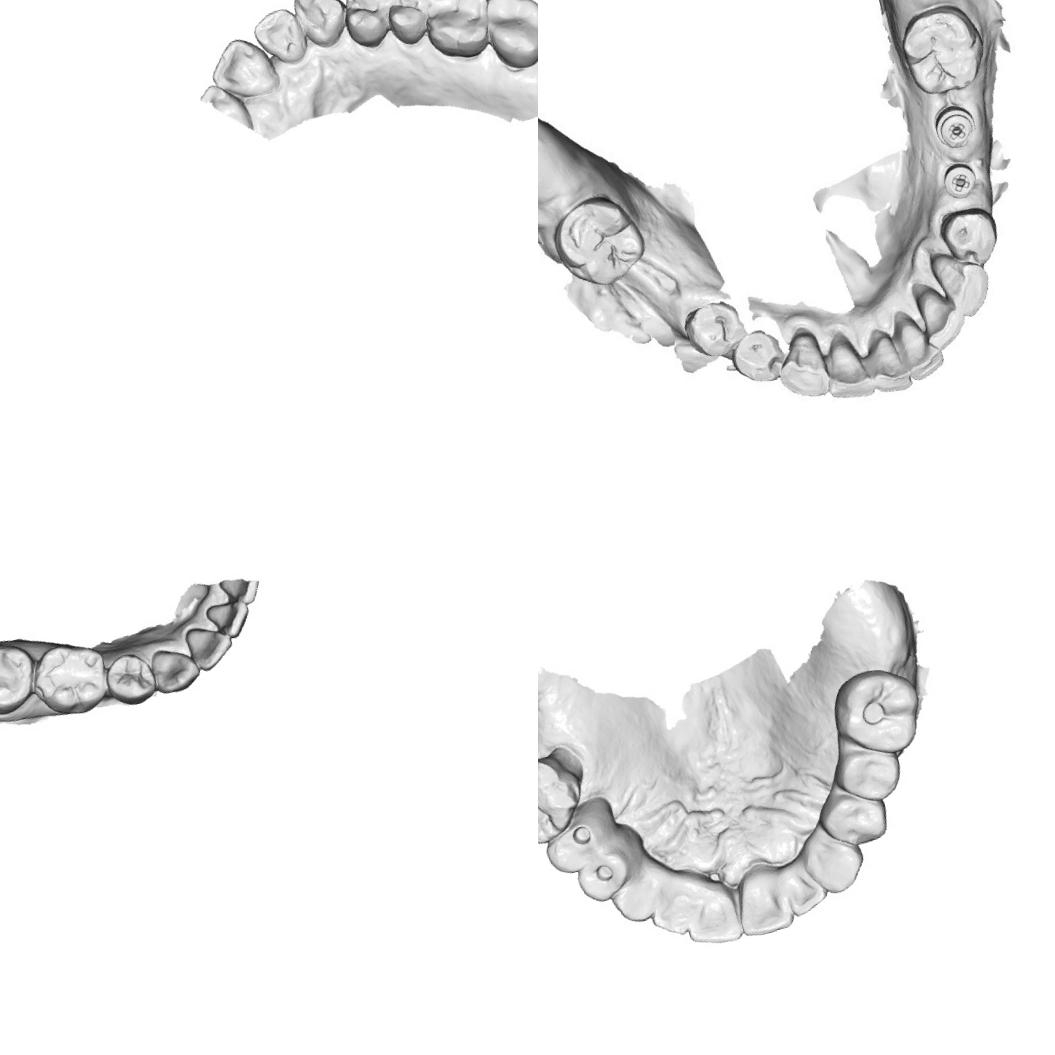canine: (922, 238, 997, 325), (768, 326, 837, 405), (798, 830, 871, 900), (606, 868, 670, 930), (145, 638, 204, 698), (288, 0, 354, 53)
implant_plus: (930, 96, 985, 154), (935, 154, 985, 207)
incisor: (202, 30, 282, 108), (728, 866, 798, 940), (814, 326, 875, 405), (892, 304, 948, 385), (247, 2, 311, 72), (682, 888, 749, 951), (912, 280, 968, 351), (859, 325, 912, 397), (775, 858, 831, 919), (180, 618, 240, 674), (644, 884, 698, 943), (202, 594, 257, 644), (218, 574, 264, 609)
molar: (544, 186, 654, 295), (824, 658, 931, 766), (891, 0, 991, 102), (23, 632, 114, 724), (413, 0, 500, 67), (538, 748, 593, 853), (477, 0, 538, 75), (0, 628, 45, 726)
premolar: (814, 778, 892, 852), (828, 740, 909, 810), (538, 808, 612, 879), (680, 294, 750, 366), (940, 200, 1008, 270), (571, 842, 642, 906), (98, 645, 161, 711), (730, 326, 791, 387), (334, 0, 403, 53), (377, 0, 441, 49)
